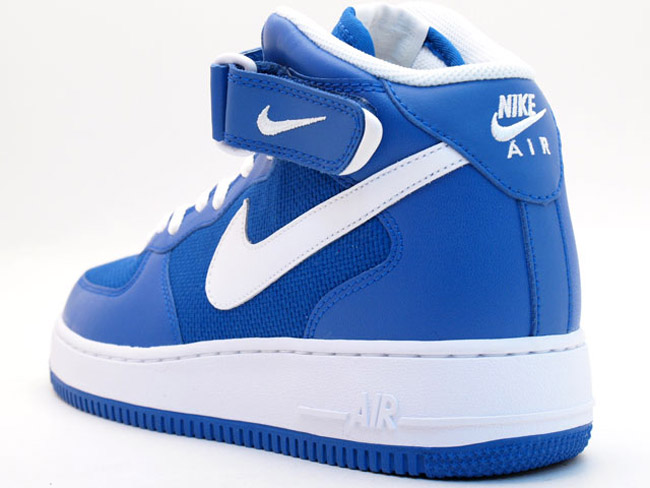Air Force One Blue: (50, 1, 603, 485)
